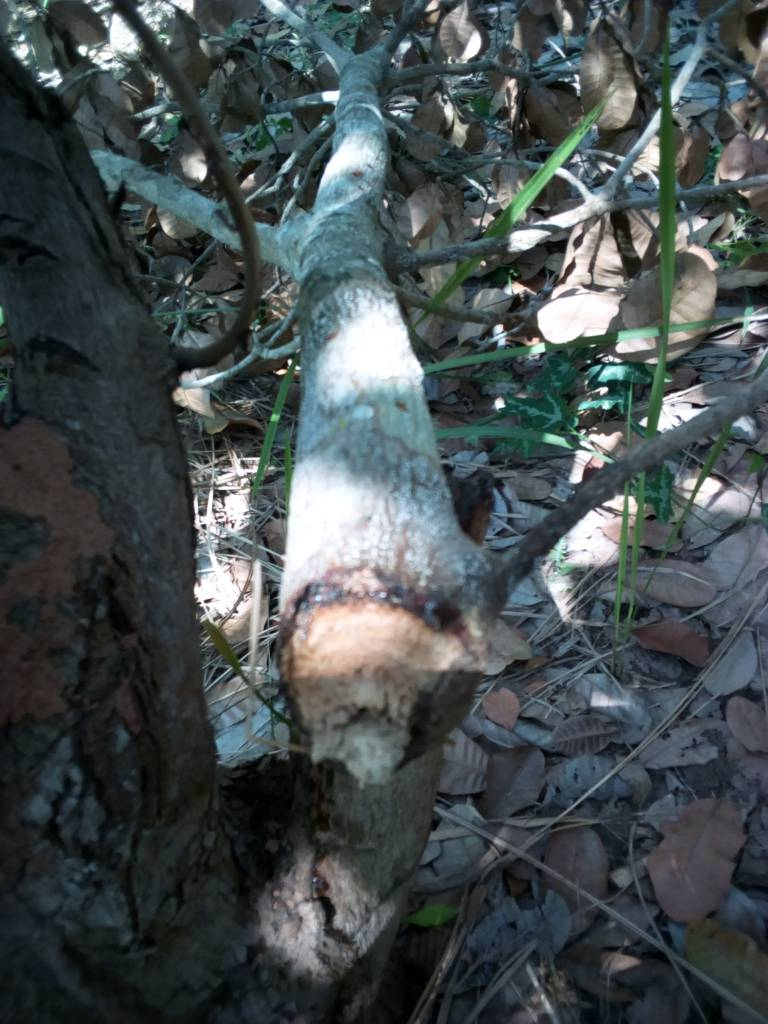Analepse trifasciata: (240, 583, 510, 789)
